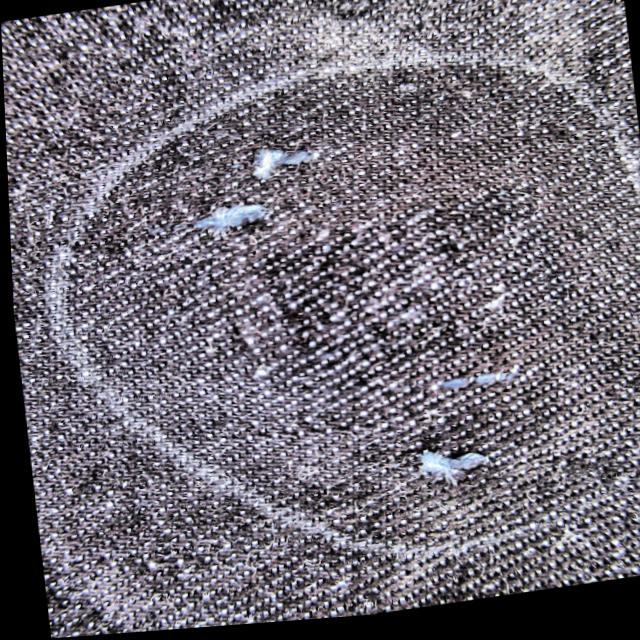Stitch: (166, 192, 280, 250), (396, 439, 507, 497), (412, 358, 532, 411), (229, 135, 340, 190)
